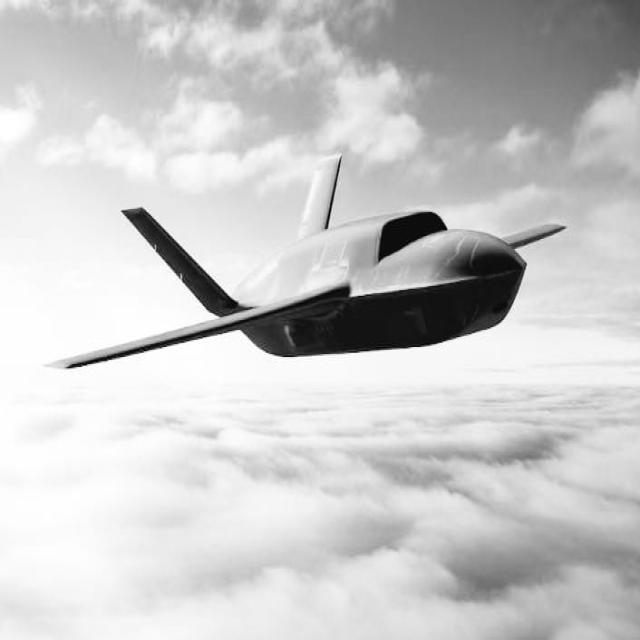iha: (19, 155, 563, 365)
